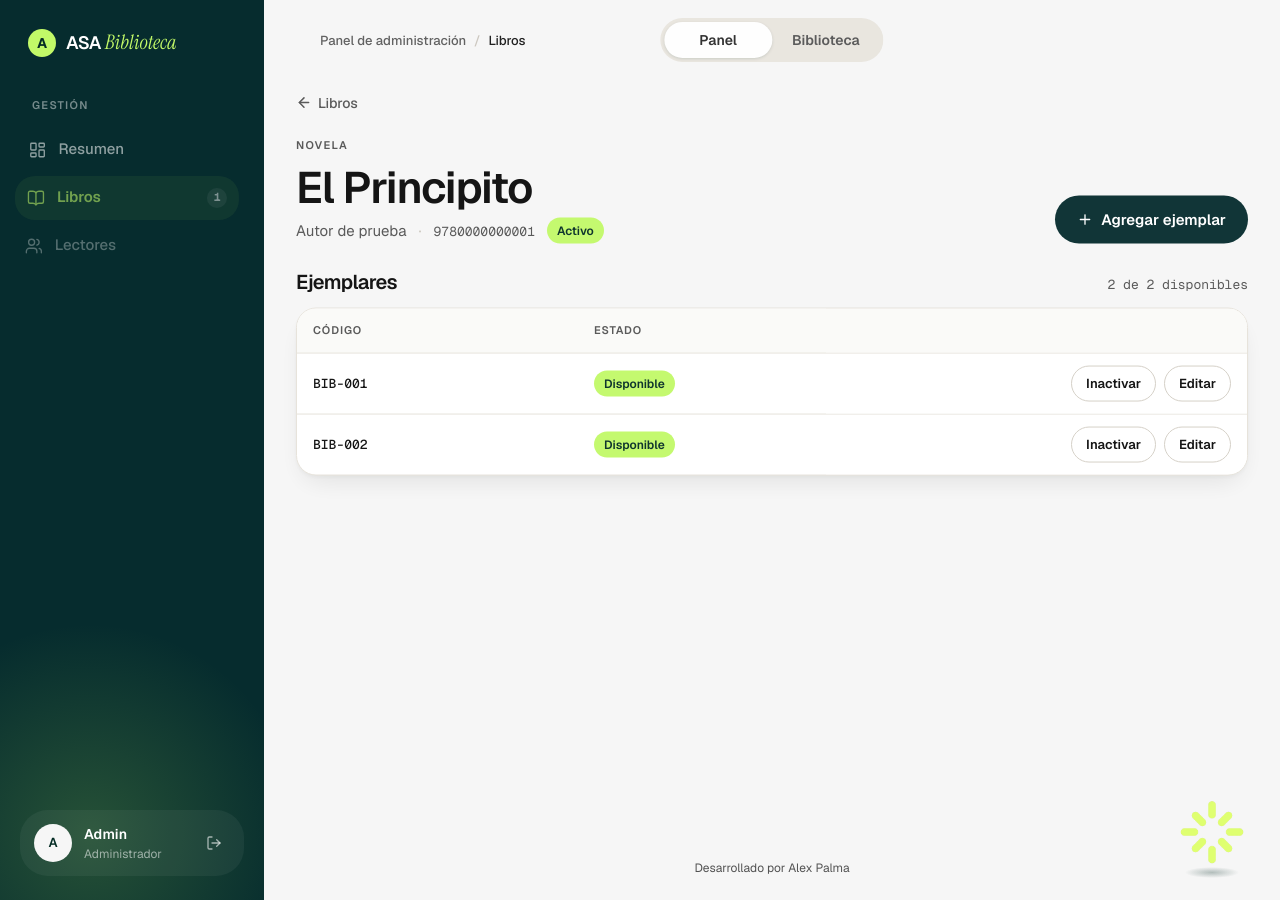
admin: editar e inactivar ejemplares › edita el código con PUT /api/ejemplares/{id} y su rowVersion, y recarga la lista
Click the button with aria-label "Editar BIB-001" at (1198, 383), box [1164,365,1231,401]
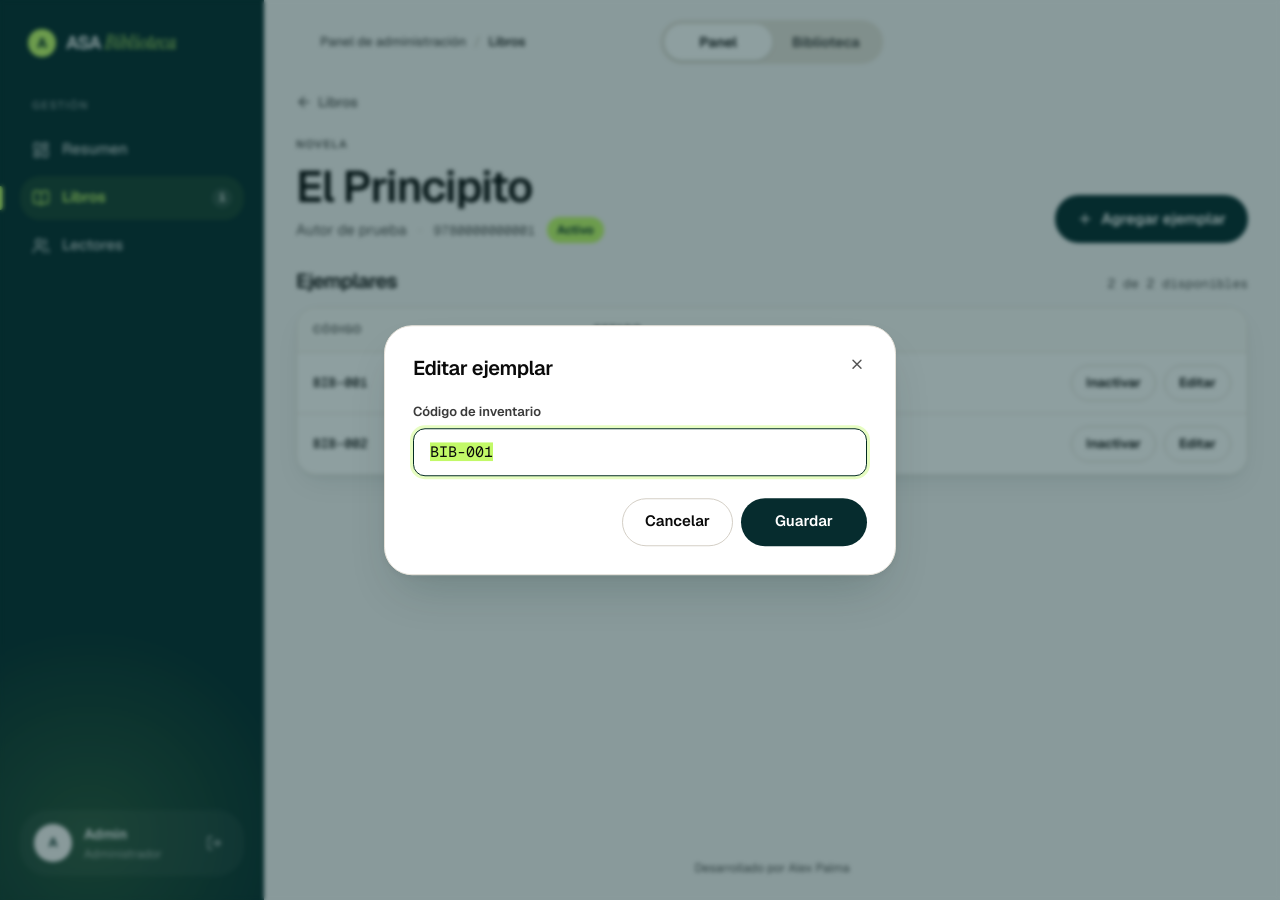
Check: the field labelled "Código de inventario" holds "BIB-001"
Replace the text in the field labelled "Código de inventario" with "BIB-900" at (640, 452), box [413,428,867,476]
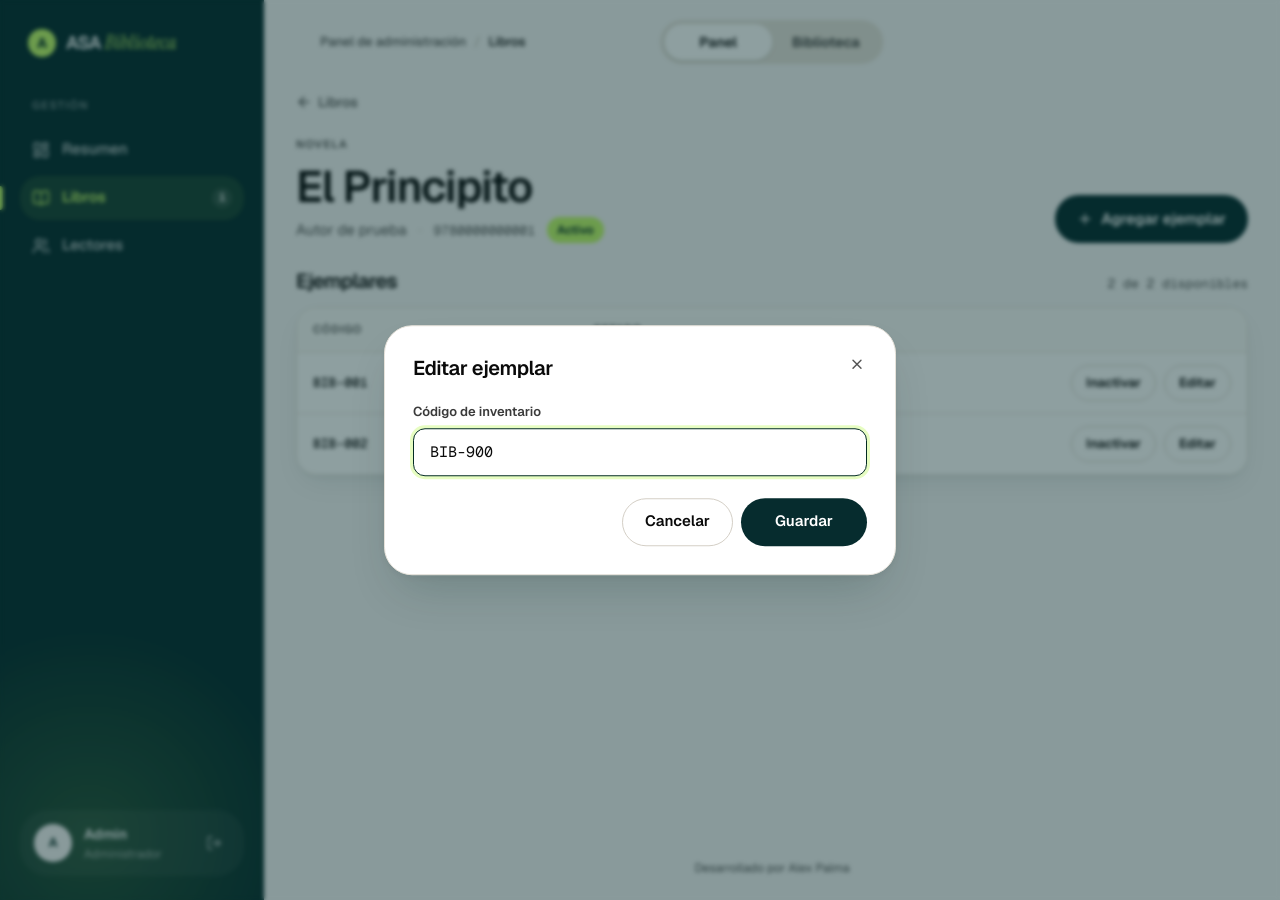
Click the button "Guardar" at (804, 522), box [741,498,867,546]
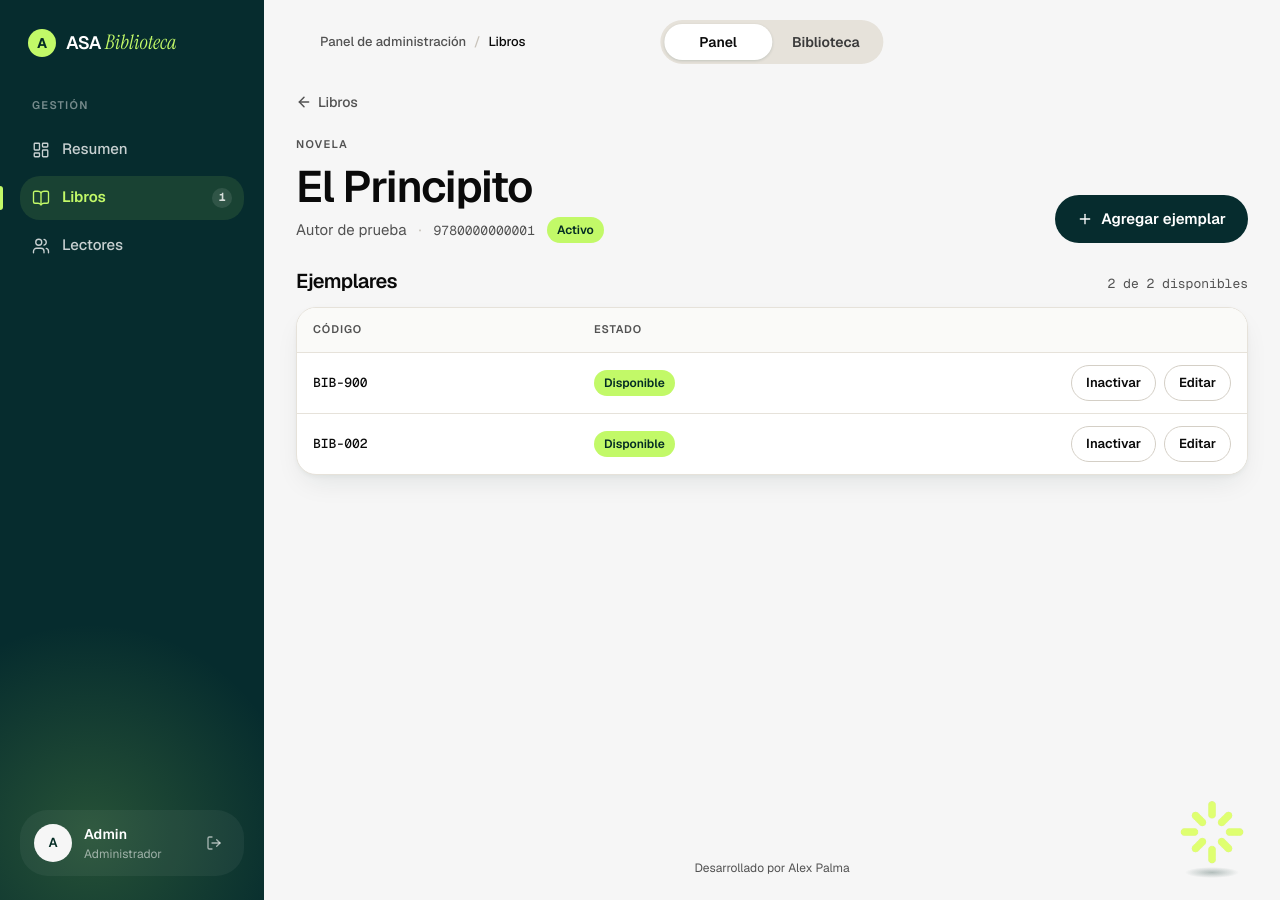
Check: the text "BIB-900" is shown, box [297,352,578,413]
Check: the heading "Editar ejemplar" is gone
